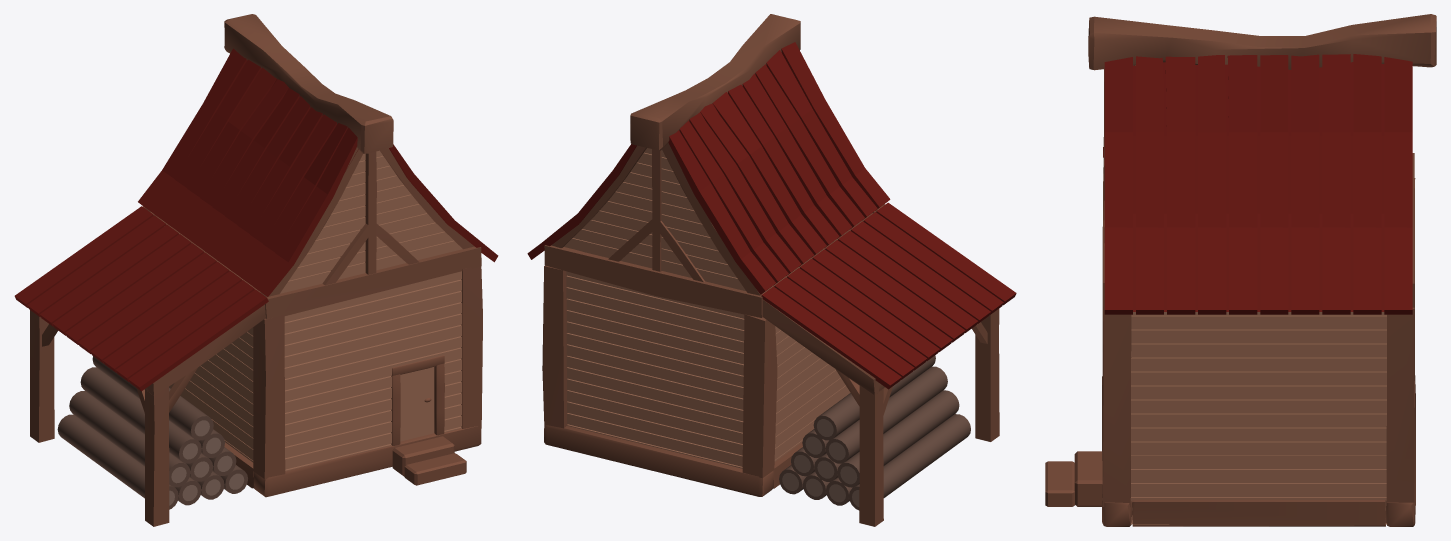
The model's file is WoodcutterHouse.fbx.
3 renders of one model, left to right at view 1: azimuth 30°, elevation 25°; view 2: azimuth 150°, elevation 25°; view 3: azimuth 270°, elevation 25°, orthographic. The views are drawn at different scales.
Parts seen in each view (by area): view 1: Cube.018, Cube.037, Wall4, Wall4.001, Cube.016, Wall, Cube, Cube.003, Cube.002, Cube.001, Cube.028, Cylinder.003 (+17 smaller); view 2: Cube.018, Wall2, Cube.037, Wall4.002, Cube.016, Cube.007, Cube.006, Wall, Cube.004, Cube.005, Cube.029, Cylinder.003 (+13 smaller); view 3: Cube.017, Wall3, Cube.016, Plane.007, Cube.008, Cube.005, Cube.001, WallRight, Cube.038, Cube.039, Cube.006, Cube.002 (+1 smaller).
Boxes of the visible parts, x1=… form: Cube.018: x1=138, y1=48, x2=357, y2=296; Cube.037: x1=14, y1=206, x2=268, y2=391; Wall4: x1=284, y1=271, x2=461, y2=471; Wall4.001: x1=280, y1=150, x2=462, y2=293; Cube.016: x1=224, y1=14, x2=393, y2=153; Wall: x1=169, y1=327, x2=253, y2=462; Cube: x1=253, y1=315, x2=285, y2=479; Cube.003: x1=258, y1=246, x2=481, y2=318; Cube.002: x1=254, y1=426, x2=481, y2=497; Cube.001: x1=461, y1=266, x2=482, y2=428; Cube.028: x1=145, y1=387, x2=169, y2=526; Cylinder.003: x1=57, y1=414, x2=178, y2=509; Cube.018: x1=668, y1=42, x2=890, y2=294; Wall2: x1=566, y1=271, x2=744, y2=468; Cube.037: x1=761, y1=202, x2=1016, y2=389; Wall4.002: x1=564, y1=148, x2=745, y2=290; Cube.016: x1=630, y1=14, x2=800, y2=150; Cube.007: x1=544, y1=245, x2=769, y2=317; Cube.006: x1=544, y1=424, x2=773, y2=496; Wall: x1=774, y1=326, x2=850, y2=461; Cube.004: x1=742, y1=314, x2=777, y2=478; Cube.005: x1=542, y1=265, x2=567, y2=428; Cube.029: x1=859, y1=386, x2=883, y2=526; Cylinder.003: x1=849, y1=414, x2=970, y2=510; Cube.017: x1=1104, y1=54, x2=1412, y2=314; Wall3: x1=1130, y1=312, x2=1386, y2=510; Cube.016: x1=1088, y1=14, x2=1436, y2=70; Plane.007: x1=1133, y1=62, x2=1384, y2=311; Cube.008: x1=1132, y1=499, x2=1385, y2=526; Cube.005: x1=1386, y1=307, x2=1414, y2=502; Cube.001: x1=1103, y1=306, x2=1131, y2=507; WallRight: x1=1131, y1=315, x2=1386, y2=497; Cube.038: x1=1074, y1=451, x2=1102, y2=506; Cube.039: x1=1045, y1=461, x2=1074, y2=506; Cube.006: x1=1385, y1=375, x2=1415, y2=526; Cube.002: x1=1102, y1=376, x2=1132, y2=526.
Bounding box in the file's own units: 327 × 314 × 250.
